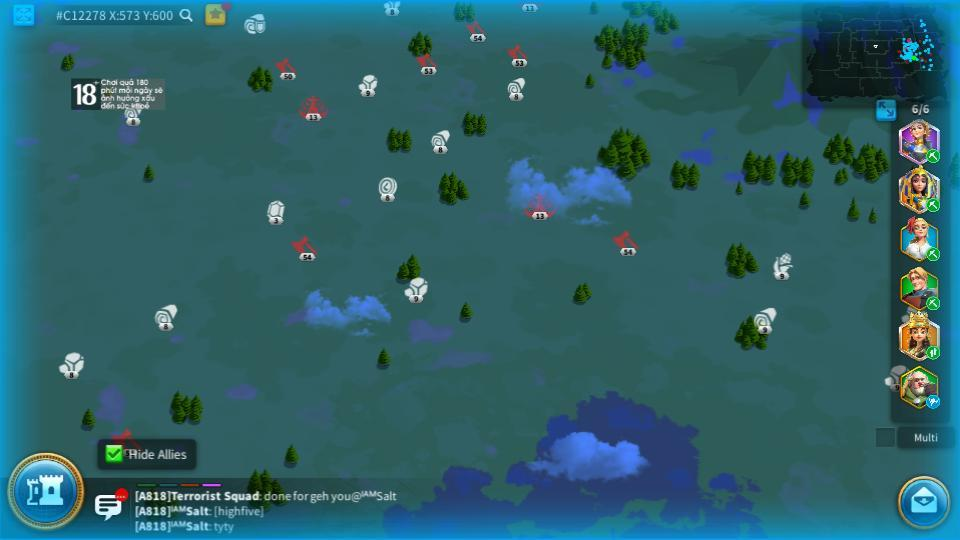gem-z-out: (266, 200, 285, 223)
march_farming: (924, 197, 939, 212), (925, 149, 941, 162), (926, 297, 941, 308)
march_idle: (925, 396, 941, 408)
march_marching: (925, 345, 941, 359)
